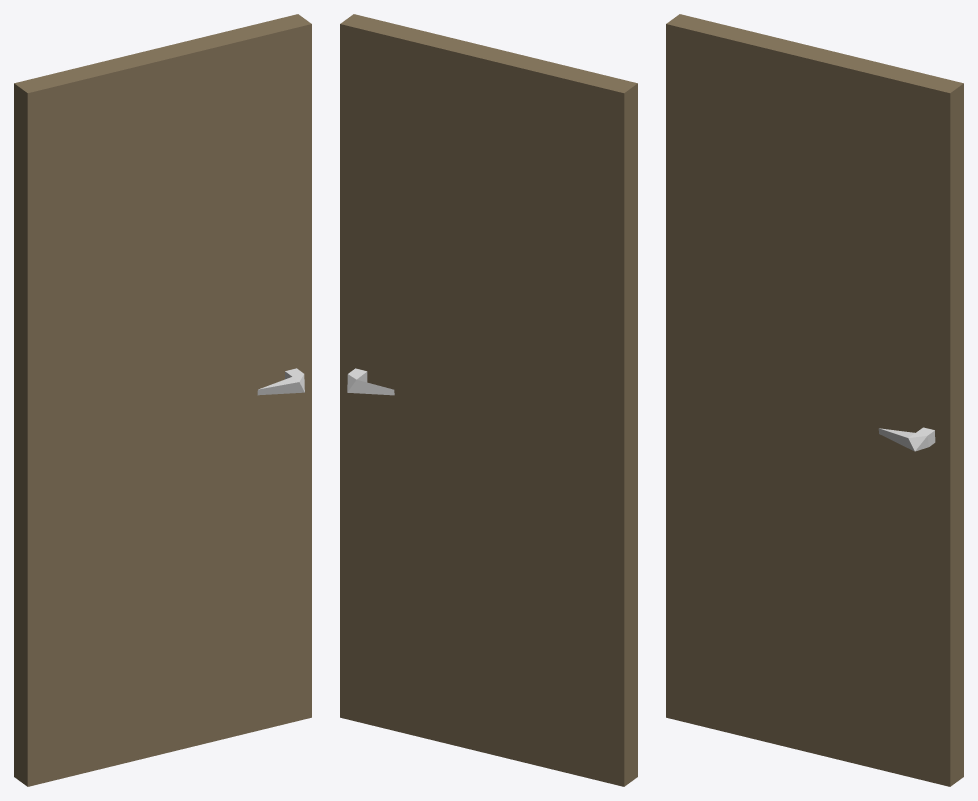
File: Light Brown Metal Door.glb
3 views of the same model, side by side, from view 1: azimuth 30°, elevation 25°; view 2: azimuth 150°, elevation 25°; view 3: azimuth 330°, elevation 25° (orthographic).
Parts seen in each view (by area): view 1: Door, Handle; view 2: Door, Handle; view 3: Door, Handle.
Boxes of the visible parts, x1,y1,x2,y2 form: Door: (14, 14, 311, 786); Handle: (257, 368, 304, 395); Door: (340, 14, 637, 786); Handle: (347, 368, 394, 395); Door: (666, 14, 963, 786); Handle: (878, 427, 935, 451).
Bounding box in the file's own units: 0.9144 × 2.13 × 0.2379.
